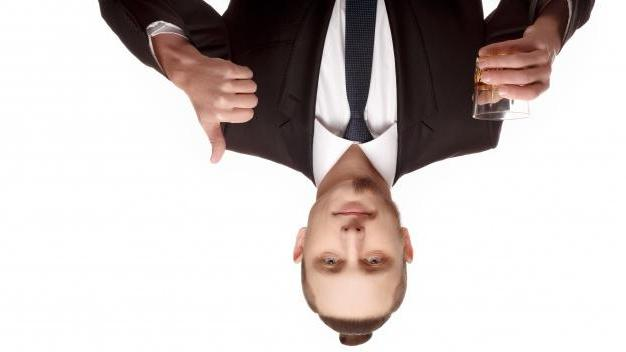thumbsdown: (208, 65, 258, 164)
